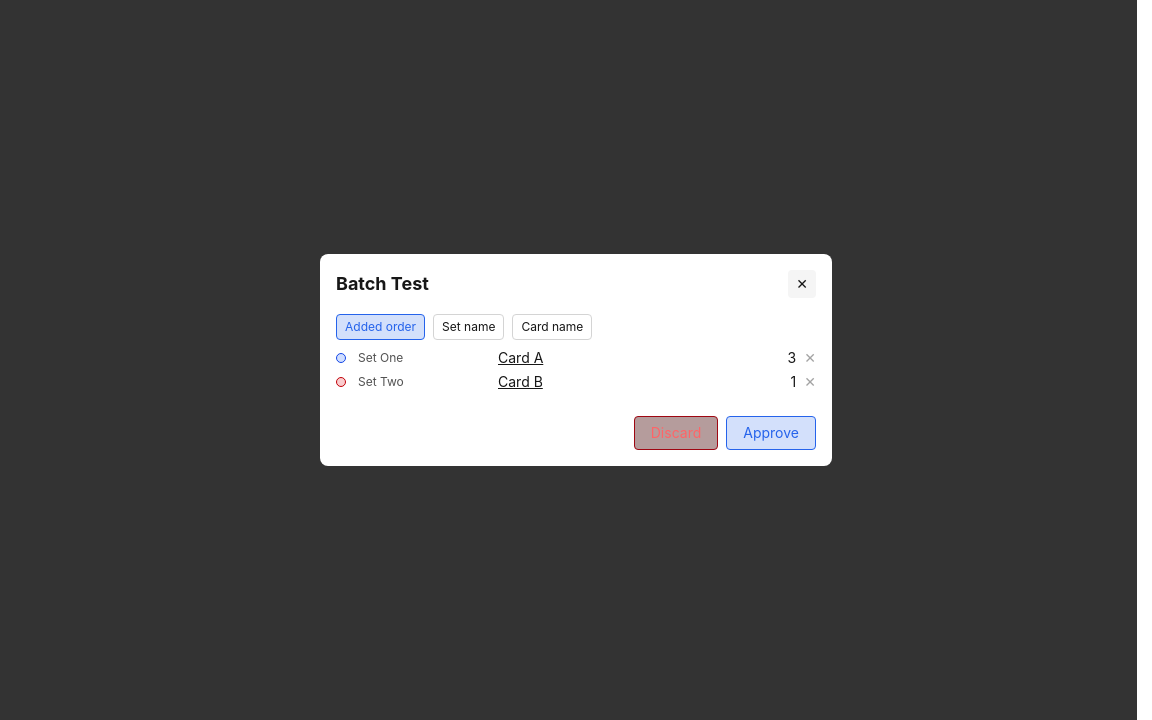
Test: BatchReviewModal › links each card to its detail popup
The width and height of the screenshot is (1152, 720).
Click the button with aria-label "Show details for Card A". click: (521, 358)
box: 498,348 -> 543,368
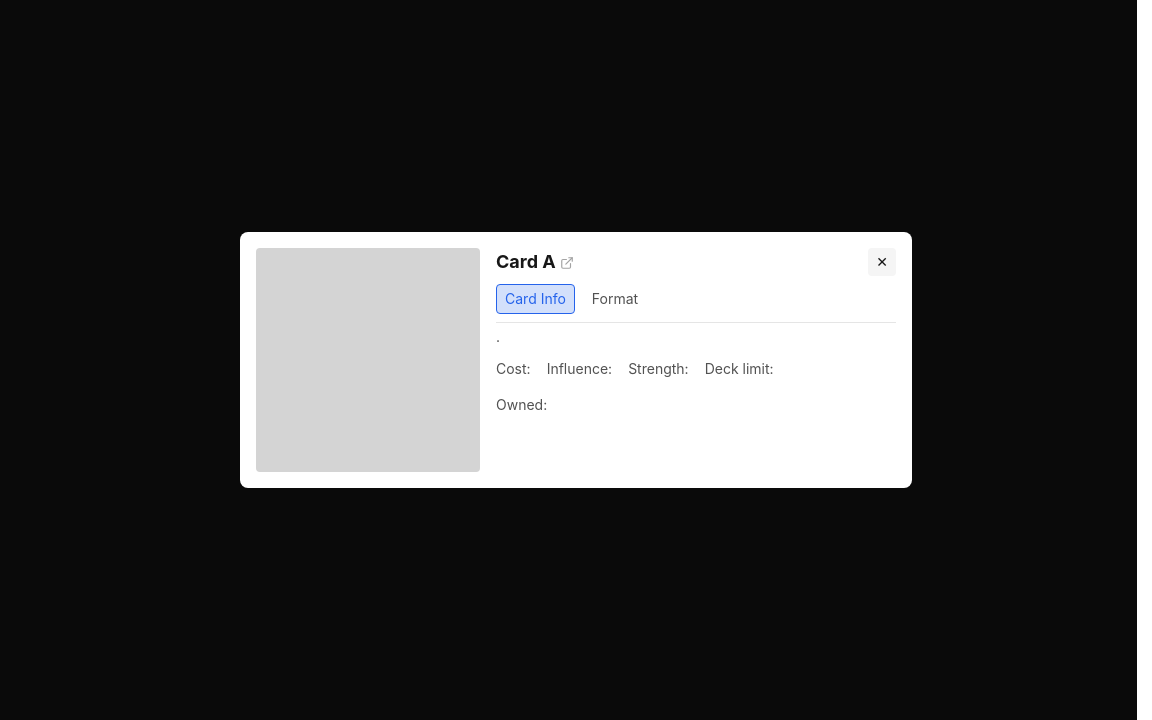
Result: the heading "Card A" is shown at 496,248 -> 574,276
